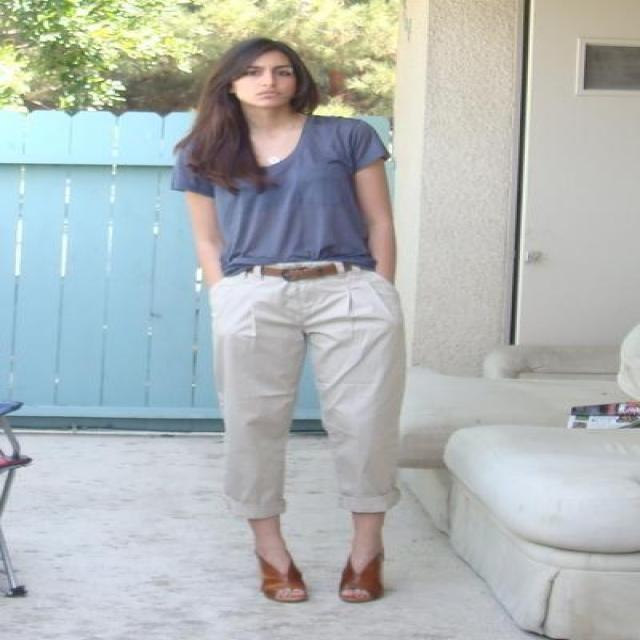pants: (195, 269, 413, 517)
shirt: (139, 97, 389, 275)
shoe: (261, 552, 382, 598)
